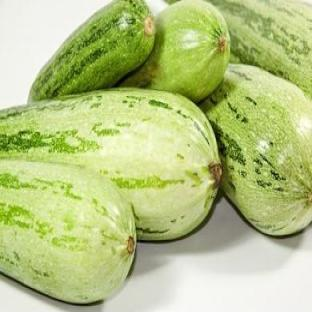Zucchini: (0, 88, 221, 239), (0, 160, 135, 303), (201, 65, 311, 235)
